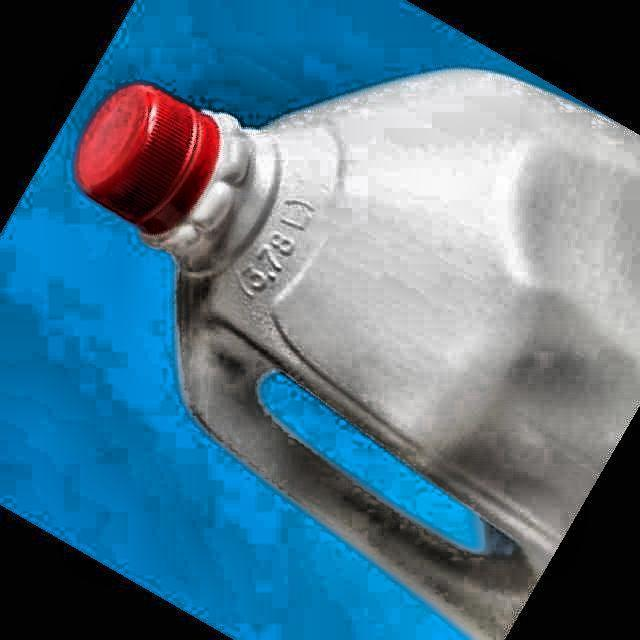plastic: (75, 71, 640, 639)
